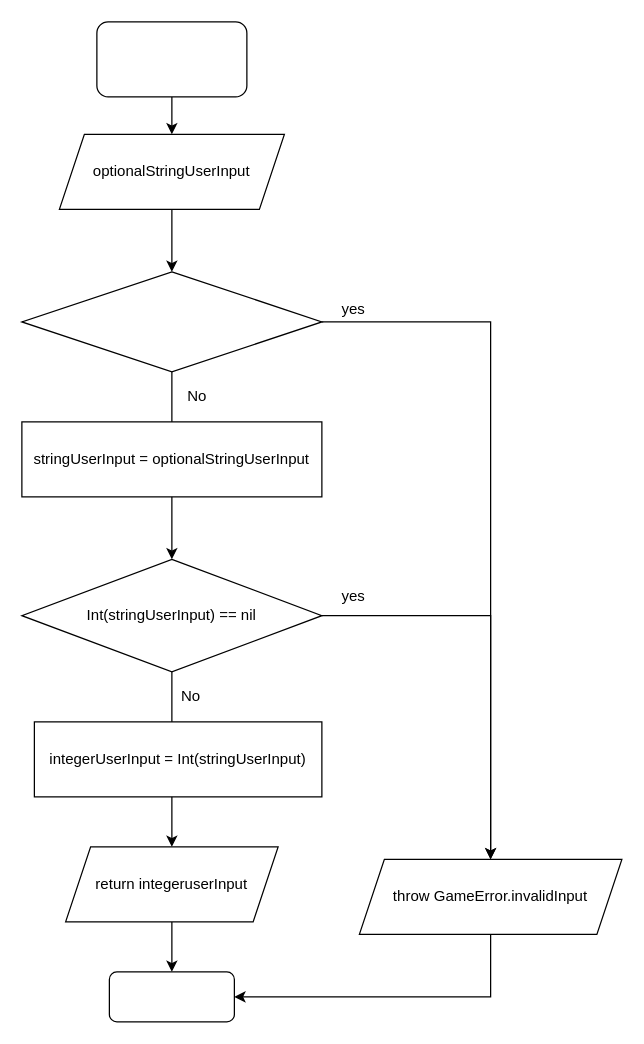
Image size: 644x1044. Some labels were removed from this diagram. The shapes that lost their labels are listed below. From the top down, each one's centre as x and y in pixels, then its label:
point (171, 59): checkUserHand()
point (171, 321): optionalStringUserInput == nil
point (171, 996): end
